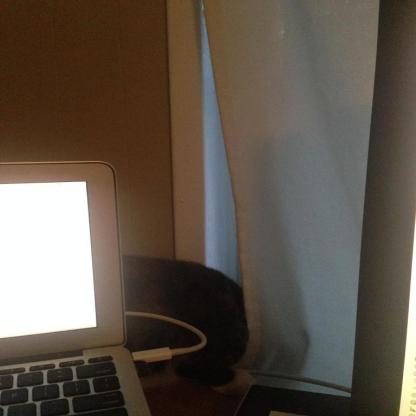board: (0, 156, 154, 416)
